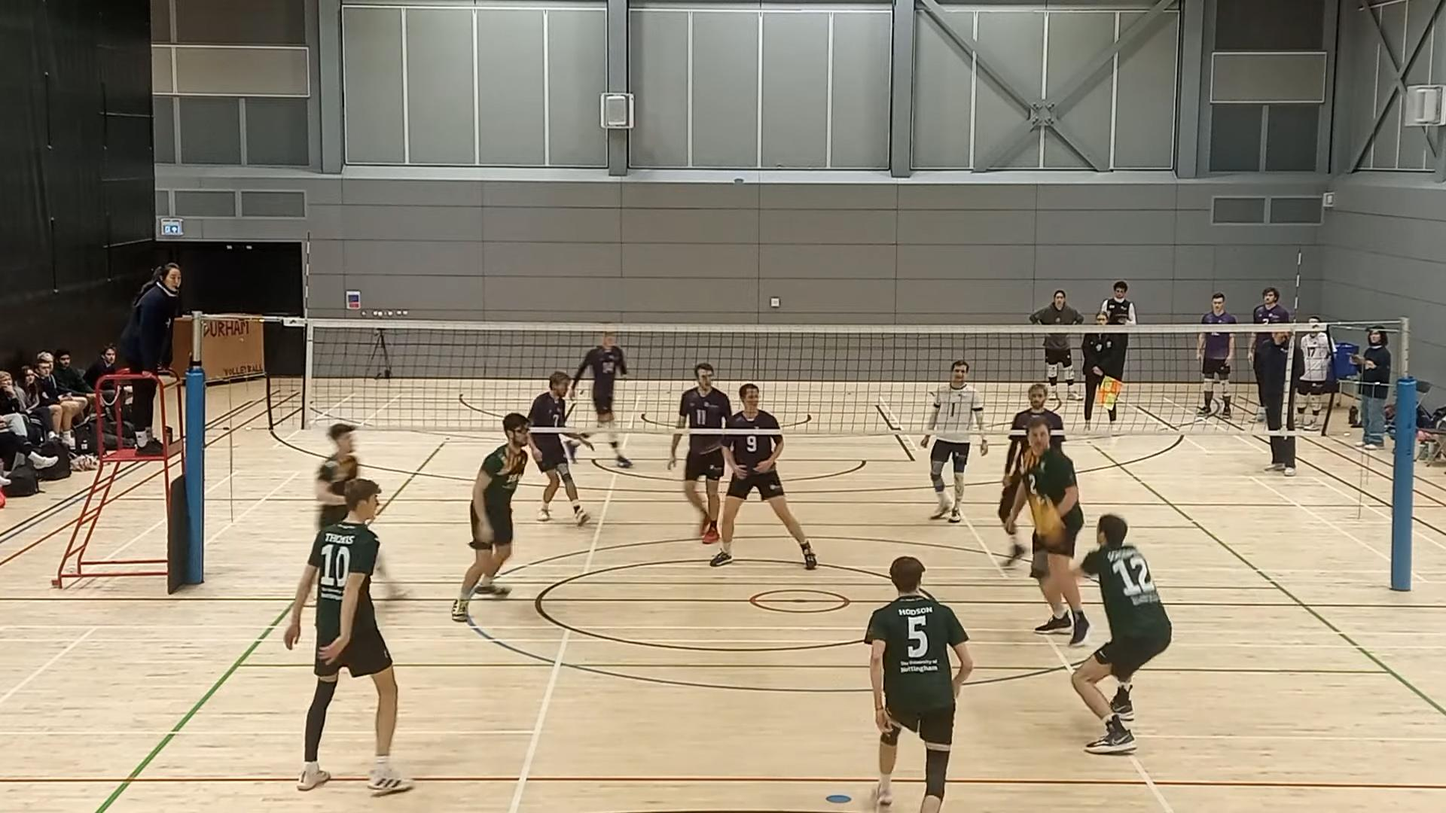ricezione: (1043, 517, 1174, 757)
